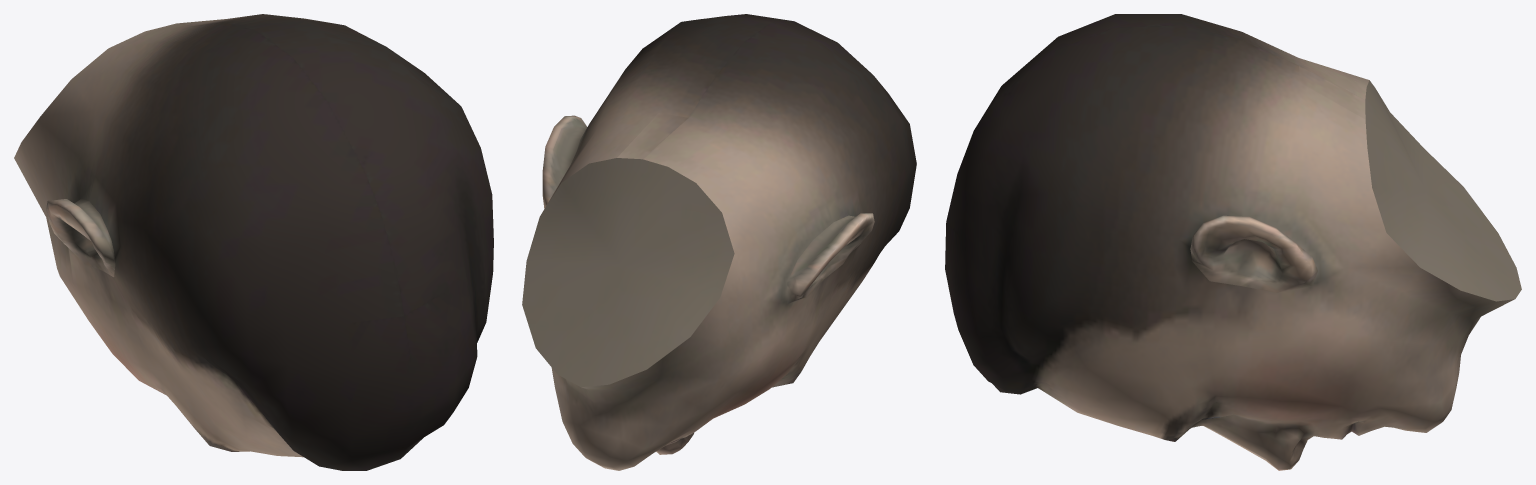
Rendered from dest_nt_nuked_male_01_head_LOD0.obj.
3 views of the same model, side by side, from view 1: azimuth 30°, elevation 25°; view 2: azimuth 150°, elevation 25°; view 3: azimuth 270°, elevation 25° (orthographic). The views are drawn at different scales.
Visible parts, largest first — view 1: mtl_nt_2020_manne_male01_head1; view 2: mtl_nt_2020_manne_male01_head1; view 3: mtl_nt_2020_manne_male01_head1.
Part boxes in pixels (<box>): mtl_nt_2020_manne_male01_head1: <box>14,14,493,470</box>; mtl_nt_2020_manne_male01_head1: <box>522,14,916,470</box>; mtl_nt_2020_manne_male01_head1: <box>945,14,1521,470</box>.
Size of the model in its own units: 19.28 by 23.73 by 29.02.
